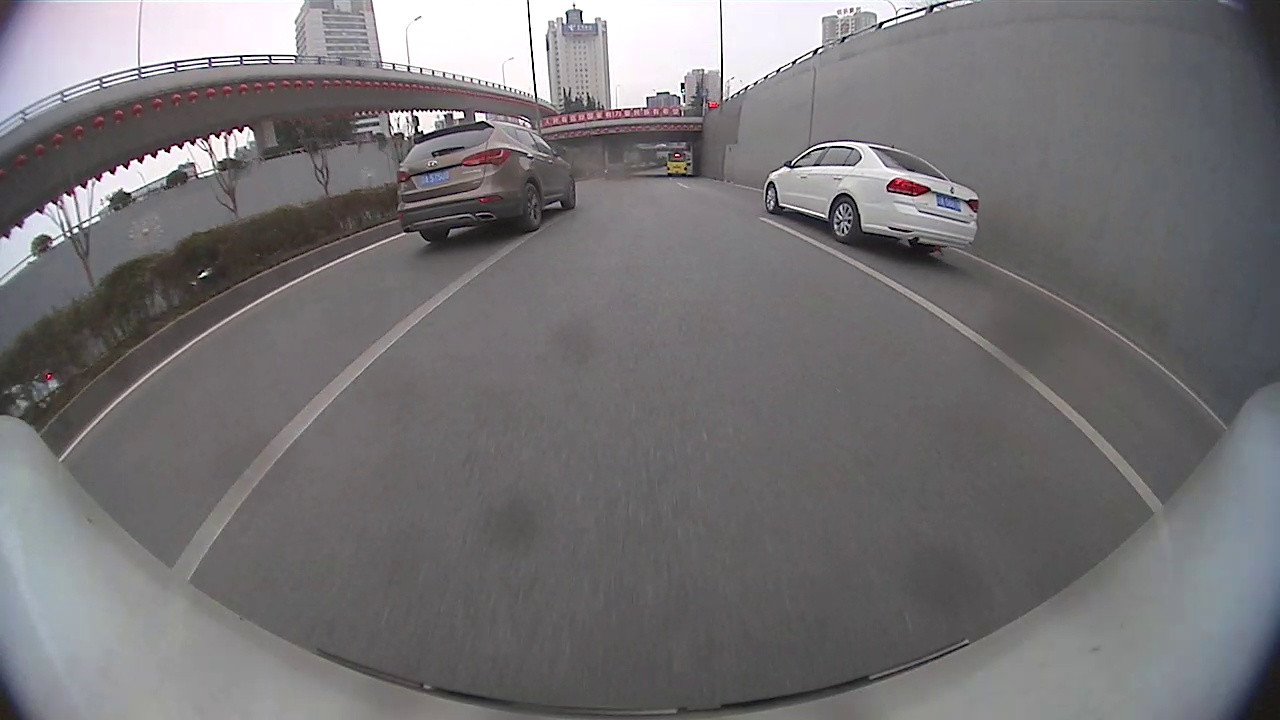car: (763, 138, 983, 257), (395, 117, 579, 243)
front: (763, 188, 781, 216)
rear: (828, 200, 862, 243), (523, 182, 547, 232)
